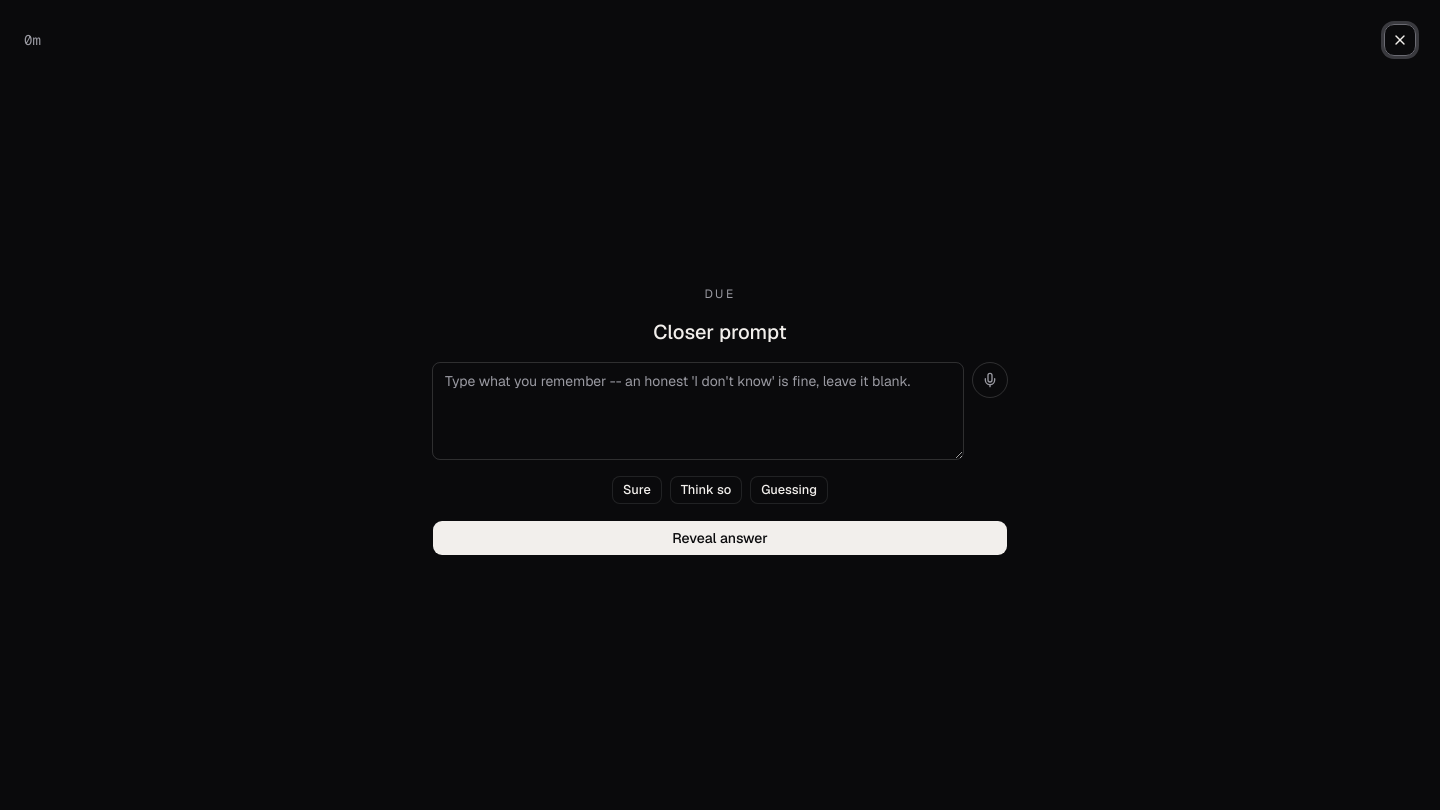
Test case: RetrievalSessionOverlay › with no key and nothing written, the closer shows the honest 'connect an agent or add a key' hint, not an error
The width and height of the screenshot is (1440, 810).
Expected: the text "Closer prompt" is shown, [653, 319, 787, 345]
Click the button "Reveal answer": click(720, 538) [432, 520, 1008, 556]
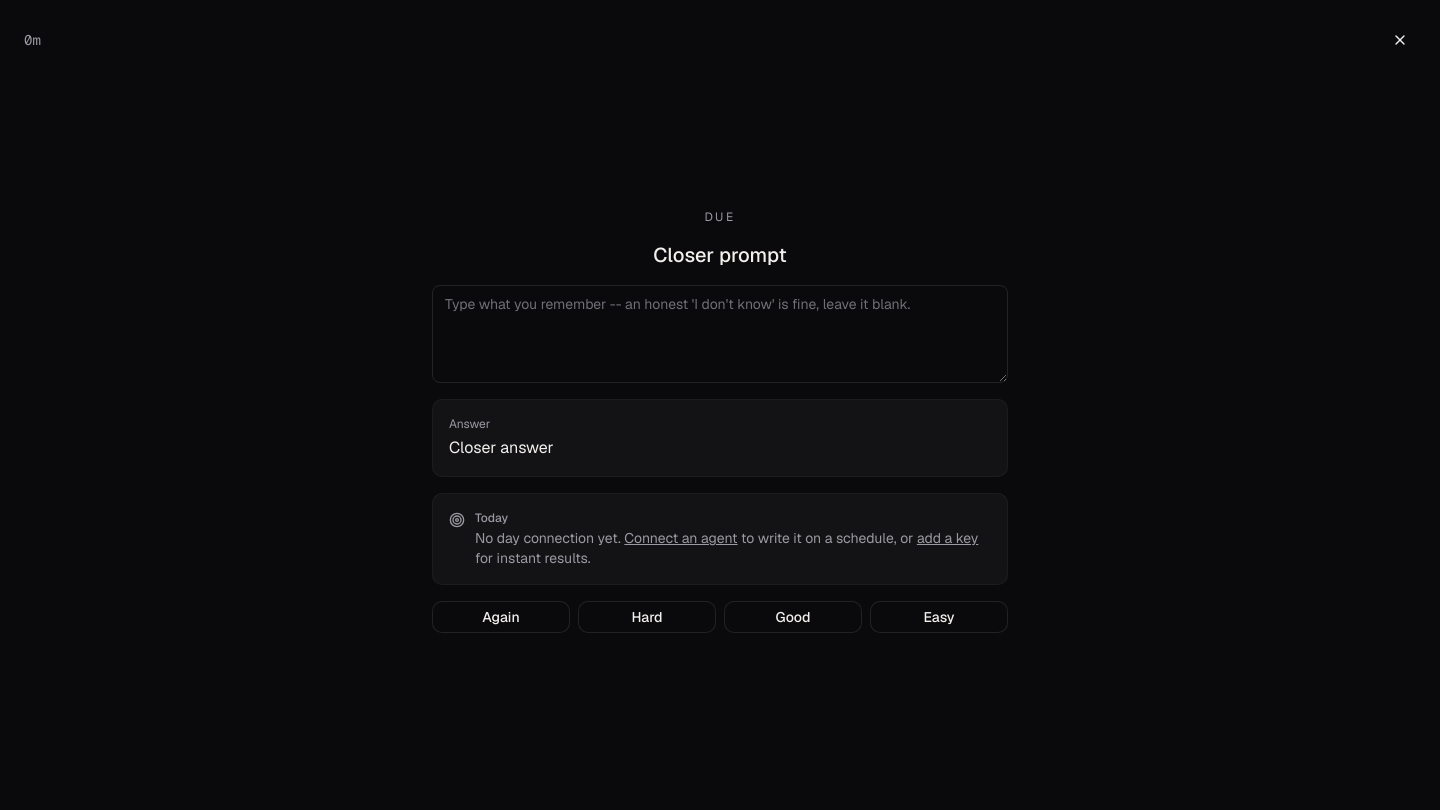
Now the element with test id "connect-agent-hint" is shown, box [475, 528, 991, 568]
